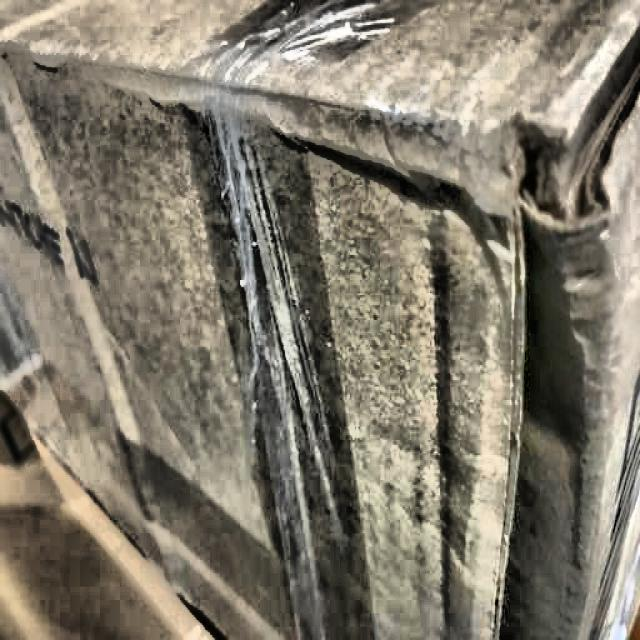cardboard: (9, 13, 640, 630)
